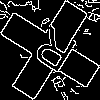R: (25, 25, 80, 83)
